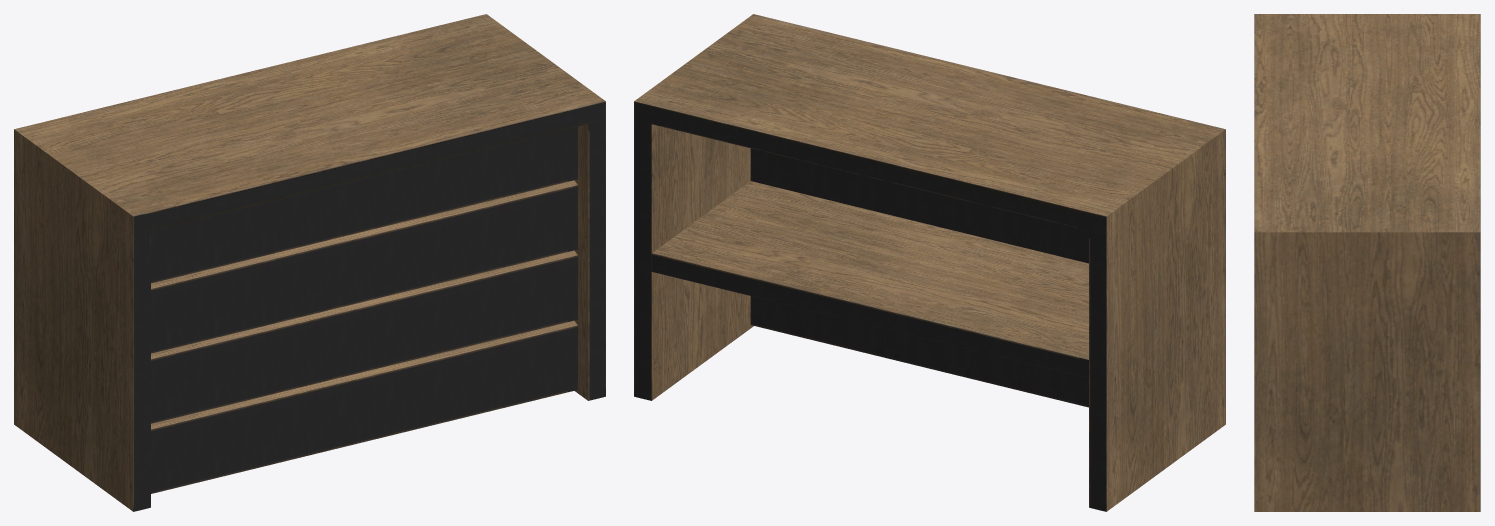
Rendered from SM_Rack_02.glb.
3 views of the same model, side by side, from view 1: azimuth 30°, elevation 25°; view 2: azimuth 150°, elevation 25°; view 3: azimuth 270°, elevation 25° (orthographic). The views are drawn at different scales.
Parts seen in each view (by area): view 1: SM_Rack_02; view 2: SM_Rack_02; view 3: SM_Rack_02.
Boxes of the visible parts, <box> form: SM_Rack_02: <box>14,14,605,511</box>; SM_Rack_02: <box>634,14,1225,511</box>; SM_Rack_02: <box>1254,14,1480,511</box>.
Bounding box in the file's own units: 1.6 × 0.9558 × 0.7.
1 material, 1 textured.
